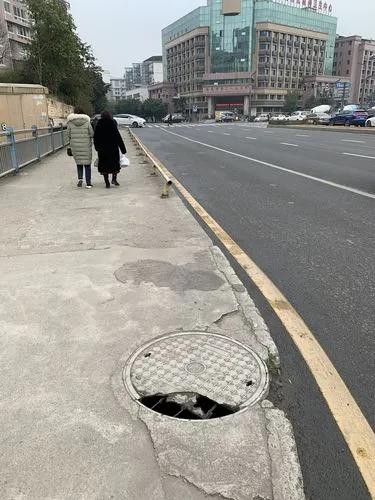wellcover: (120, 322, 275, 427)
